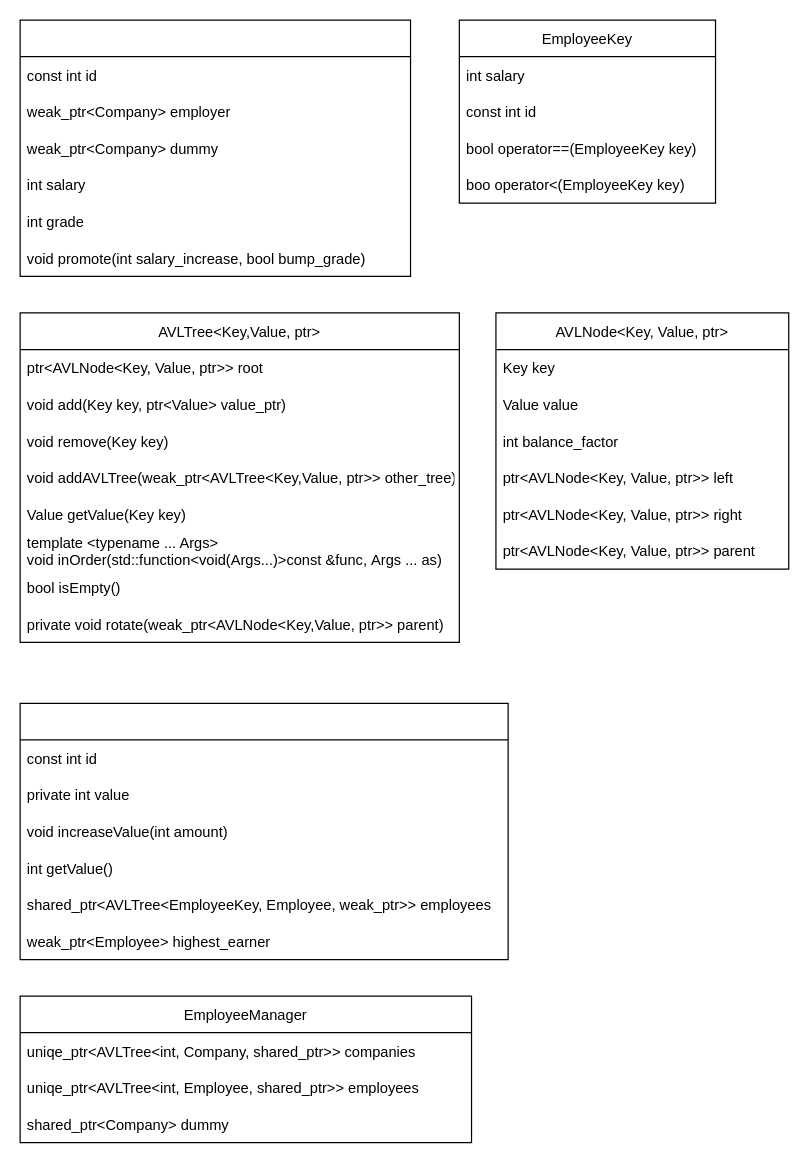
This 809x1163 diagram has some shape labels left out. The box of each missing label's shape, as (x1, y1, x2, y2) in pixels:
Company: (19, 702, 508, 960)
Employee: (19, 19, 411, 276)
